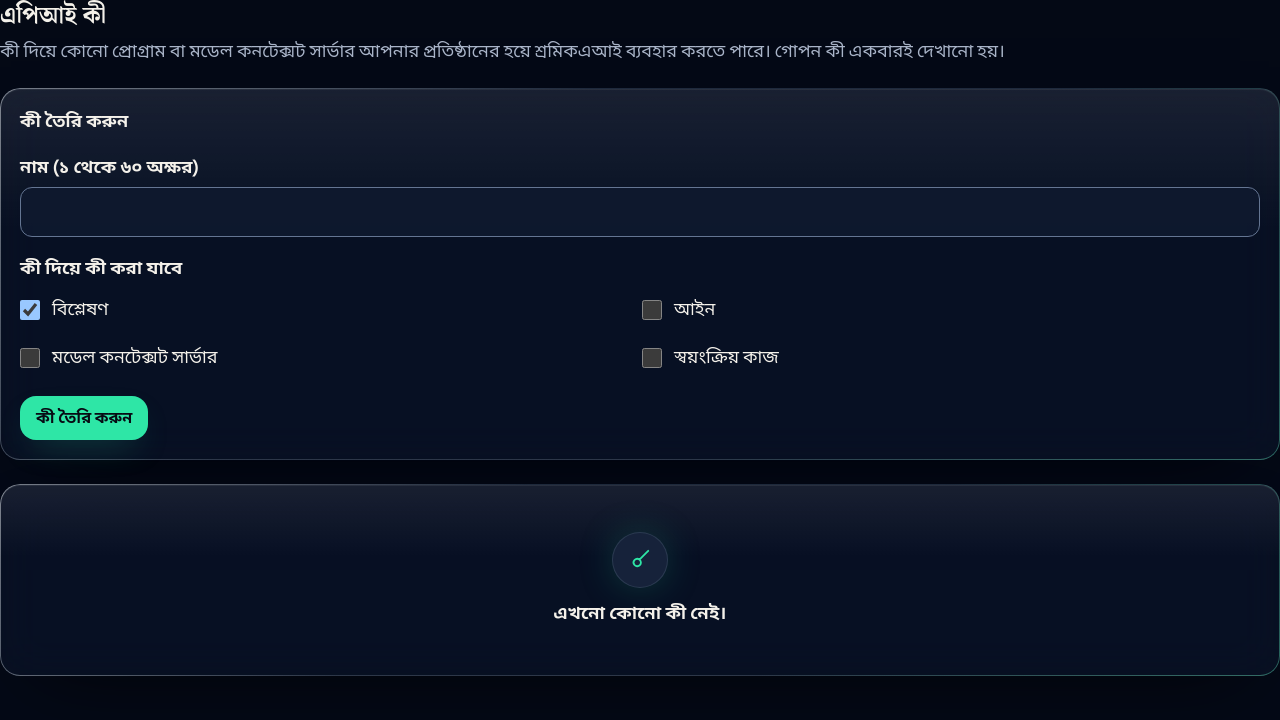
Test: API keys (FR-65) › FR-65 shows the secret once, right after creating the key, and not again
Type "CI key" into the field labelled "নাম (১ থেকে ৬০ অক্ষর)" at (640, 212), box [20, 187, 1260, 236]
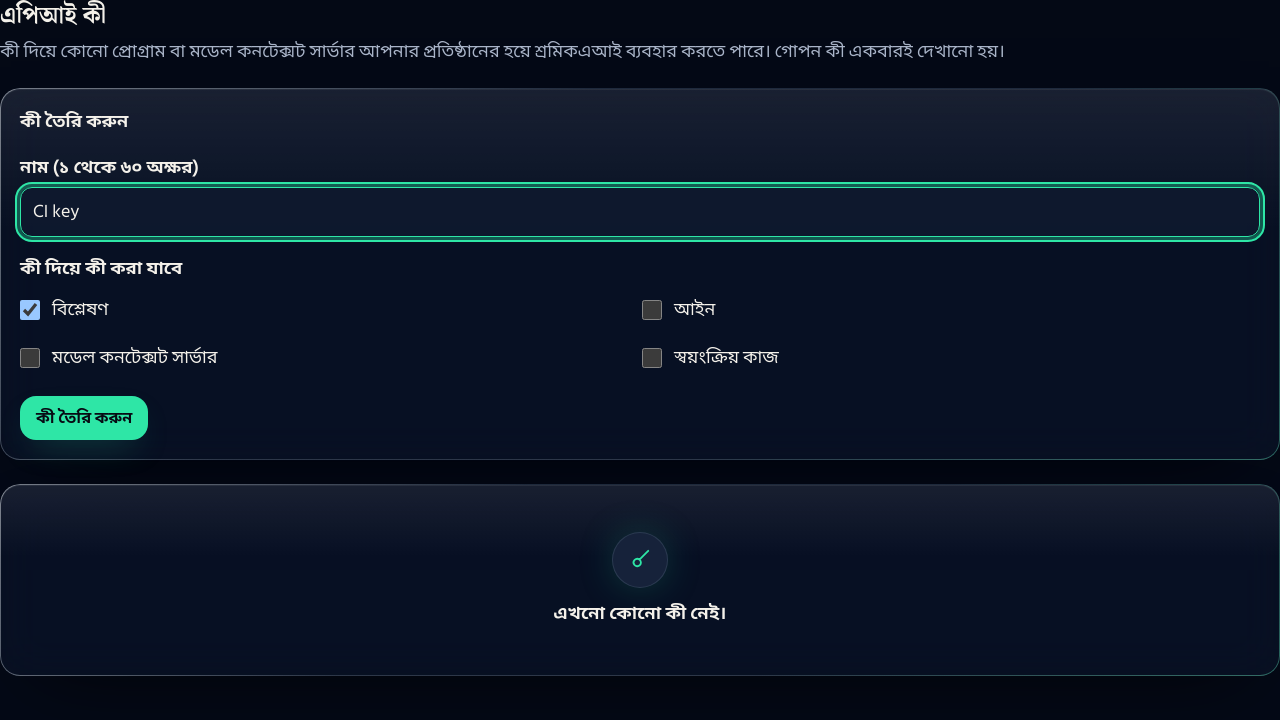
Click the button "কী তৈরি করুন" at (84, 418), box [20, 396, 148, 440]
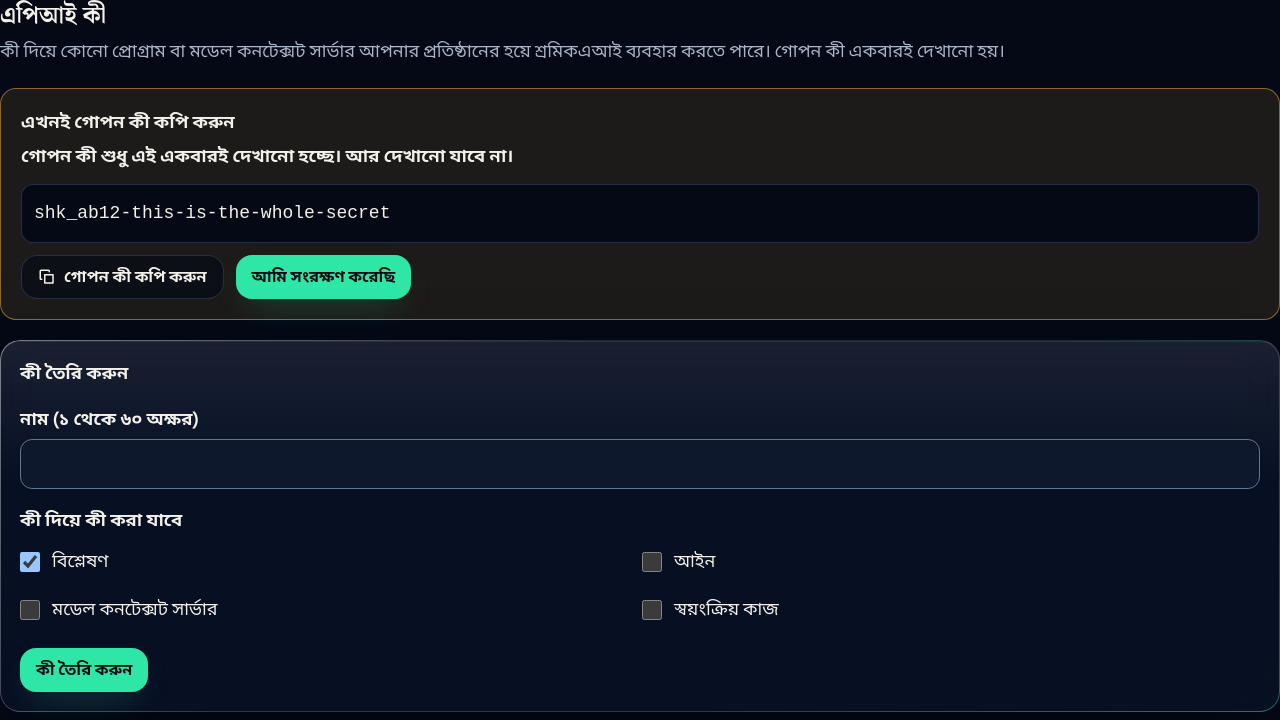
Now the element with test id "api-key-secret" reads "shk_ab12-this-is-the-whole-secret", box [34, 203, 390, 223]
Click the button "আমি সংরক্ষণ করেছি" at (323, 276), box [236, 254, 411, 298]
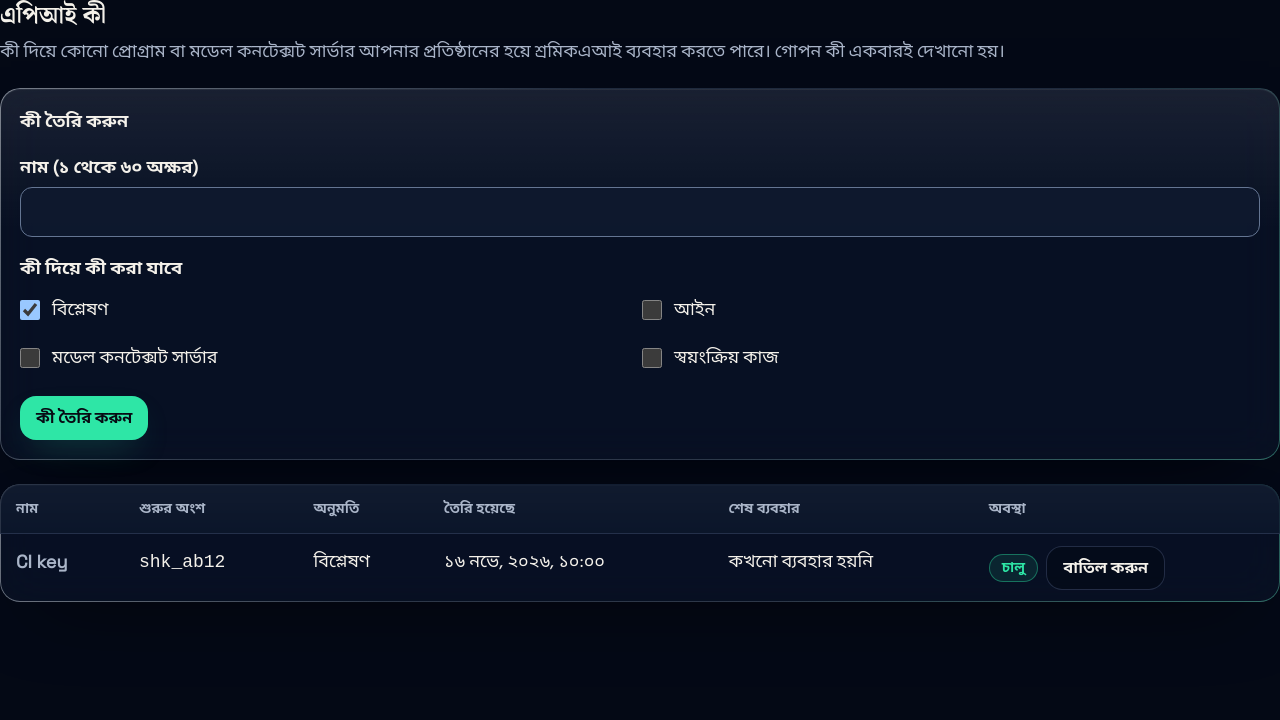
Now the cell "shk_ab12" is shown, box [123, 534, 298, 602]
Now the element with test id "api-key-secret" is gone
Now the text "this-is-the-whole-secret" is gone
